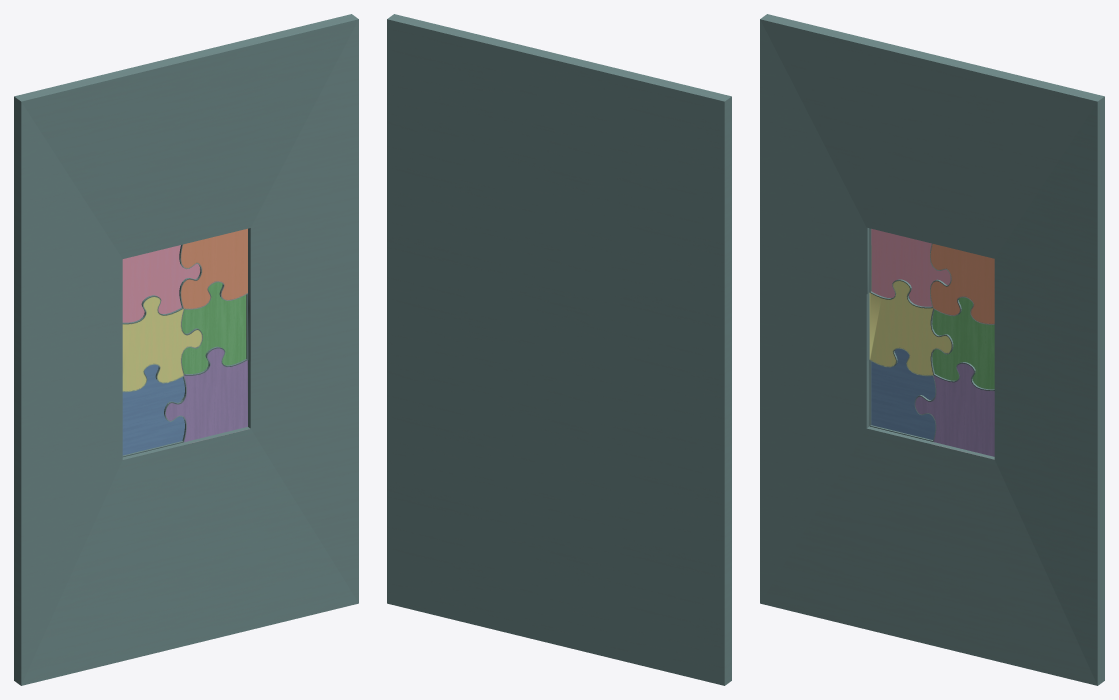
File: puzzle_door.FBX
3 renders of one model, left to right at view 1: azimuth 30°, elevation 25°; view 2: azimuth 150°, elevation 25°; view 3: azimuth 330°, elevation 25°, orthographic.
Parts seen in each view (by area): view 1: back_door; view 2: back_door; view 3: back_door.
Part boxes in pixels (x1,y1,x2,y2): back_door: (14, 14, 358, 685); back_door: (387, 14, 731, 685); back_door: (760, 14, 1104, 685).
Bounding box in the file's own units: 47.43 × 78.41 × 1.74.
Materials: 1 (1 with a texture image).
